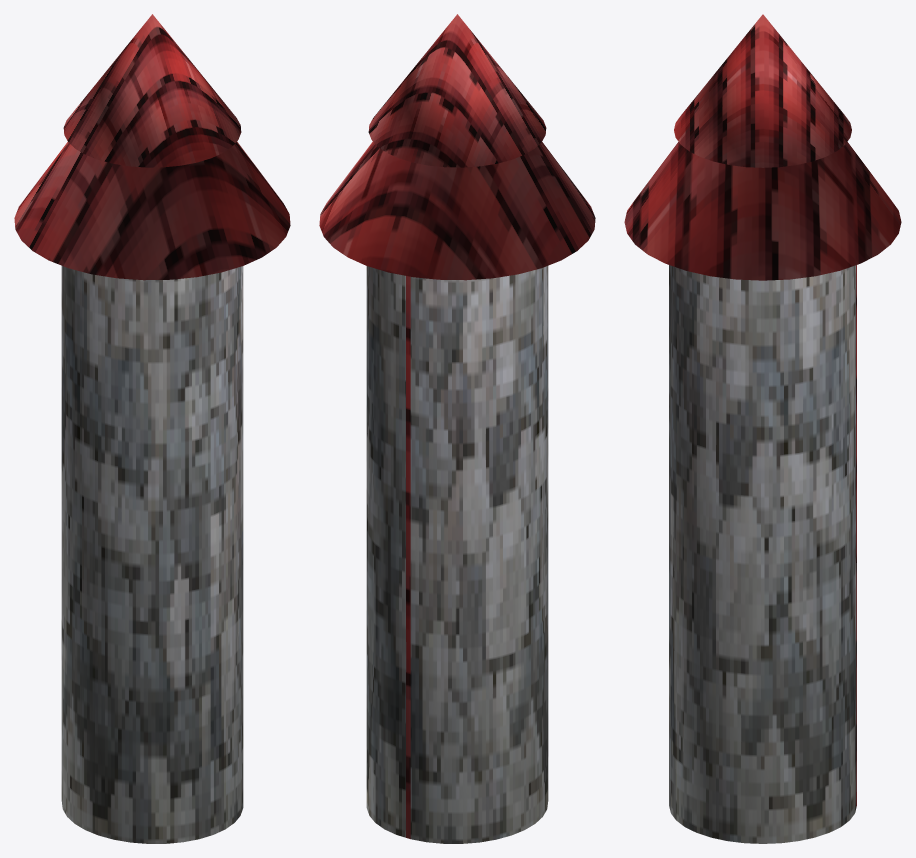
Rendered from TORRE.fbx.
3 views of the same model, side by side, from view 1: azimuth 30°, elevation 25°; view 2: azimuth 150°, elevation 25°; view 3: azimuth 270°, elevation 25° (orthographic).
Visible parts, largest first — view 1: Cylinder, Cone; view 2: Cylinder, Cone; view 3: Cylinder, Cone.
Part boxes in pixels (left/top/right/bottom): Cylinder: left=61, top=266, right=243, bottom=843; Cone: left=14, top=14, right=290, bottom=280; Cylinder: left=366, top=266, right=548, bottom=843; Cone: left=319, top=14, right=595, bottom=280; Cylinder: left=669, top=265, right=856, bottom=843; Cone: left=624, top=14, right=901, bottom=280.
Size of the model in its own units: 540 by 1705 by 540.
2 materials, 2 textured.
